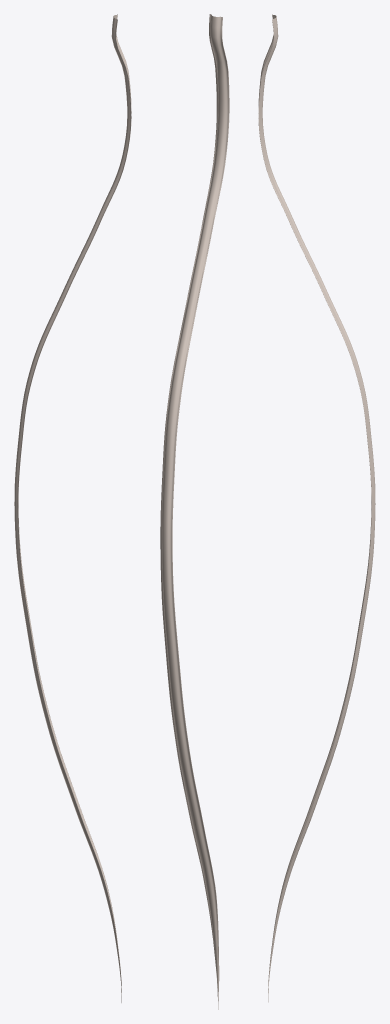
Rendered from nervoso-anterior-fasciculus-proprius.glb.
3 renders of one model, left to right at view 1: azimuth 90°, elevation 25°; view 2: azimuth 150°, elevation 25°; view 3: azimuth 270°, elevation 25°, orthographic.
Visible parts, largest first — view 1: Anterior fasciculus proprius; view 2: Anterior fasciculus proprius; view 3: Anterior fasciculus proprius.
Part boxes in pixels (x1,y1,x2,y2): Anterior fasciculus proprius: (14, 14, 131, 1002); Anterior fasciculus proprius: (160, 14, 229, 1009); Anterior fasciculus proprius: (258, 14, 375, 1002).
Bounding box in the file's own units: 0.00684 × 0.4895 × 0.0523.
